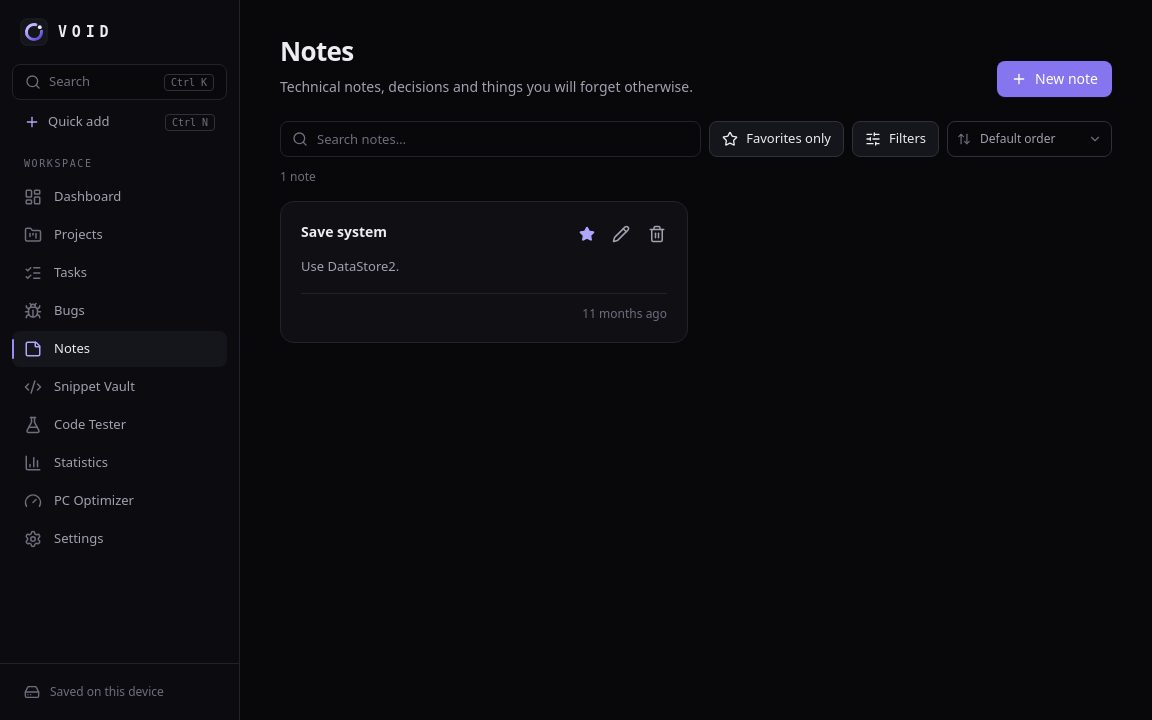
Scenario: favourites › keeps the favourite when the item is edited
The image size is (1152, 720).
Click the button named "Edit Save system" at (621, 234), box [603,216,639,252]
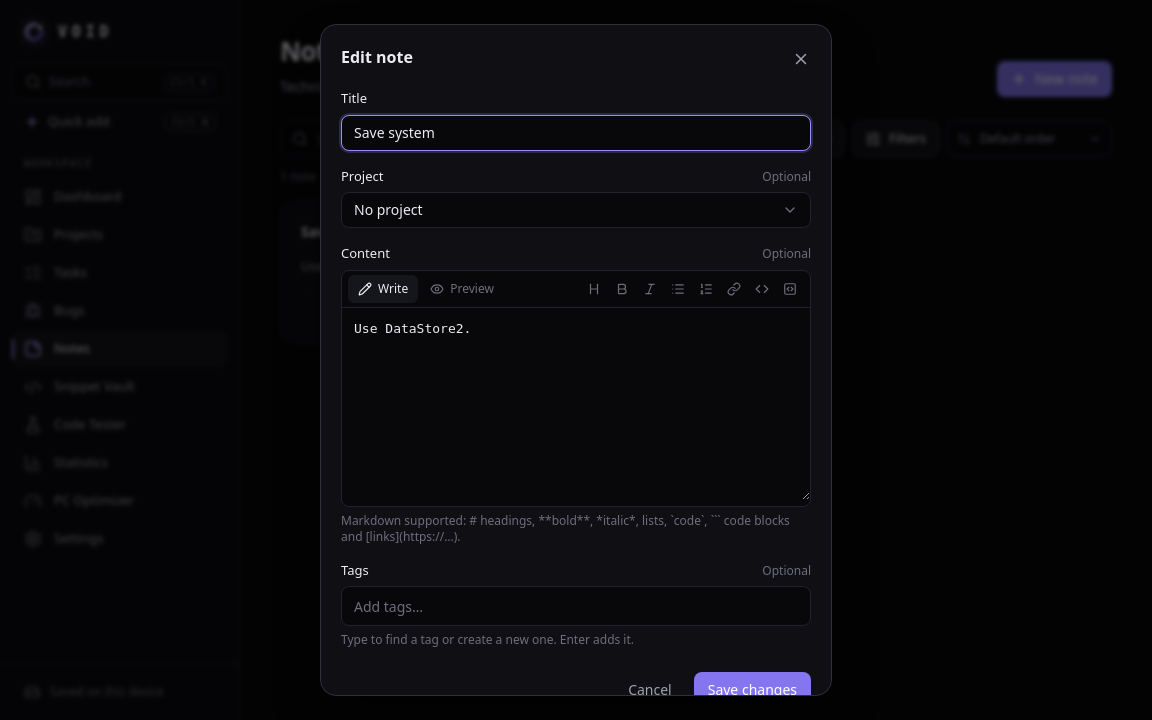
Replace the text in the field labelled "Title" with "Save system v2" at (576, 132), box [341,114,811,150]
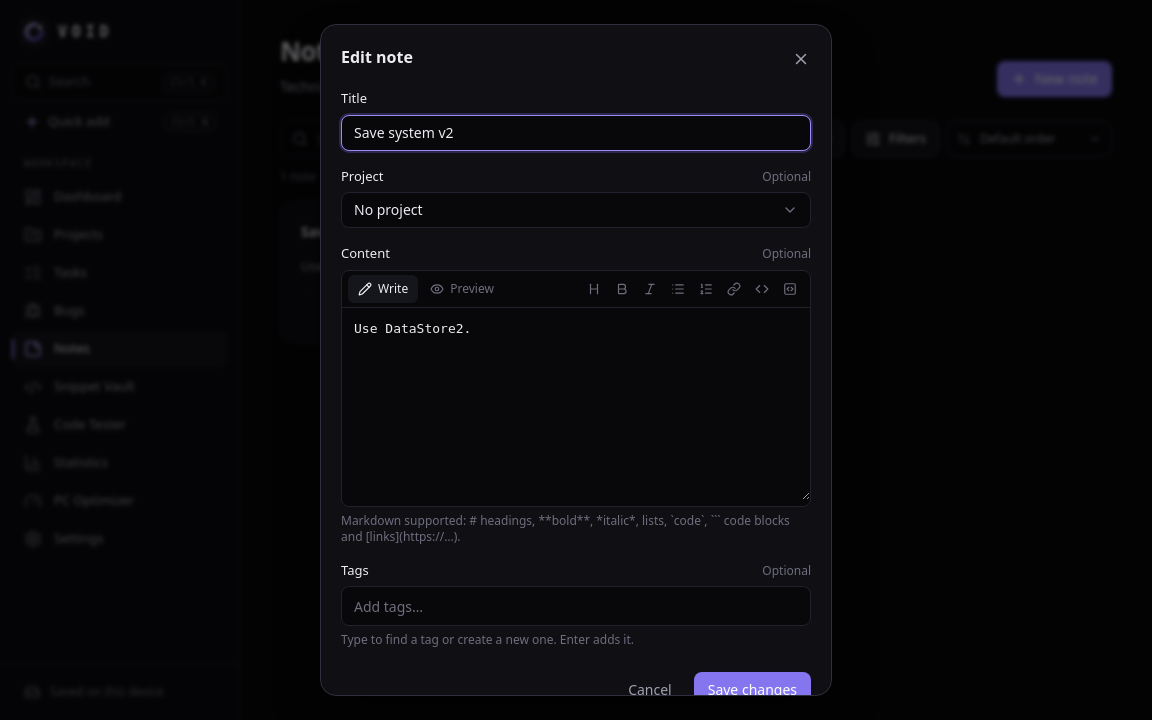
Click the button "Save changes" at (752, 690), box [694,672,811,708]
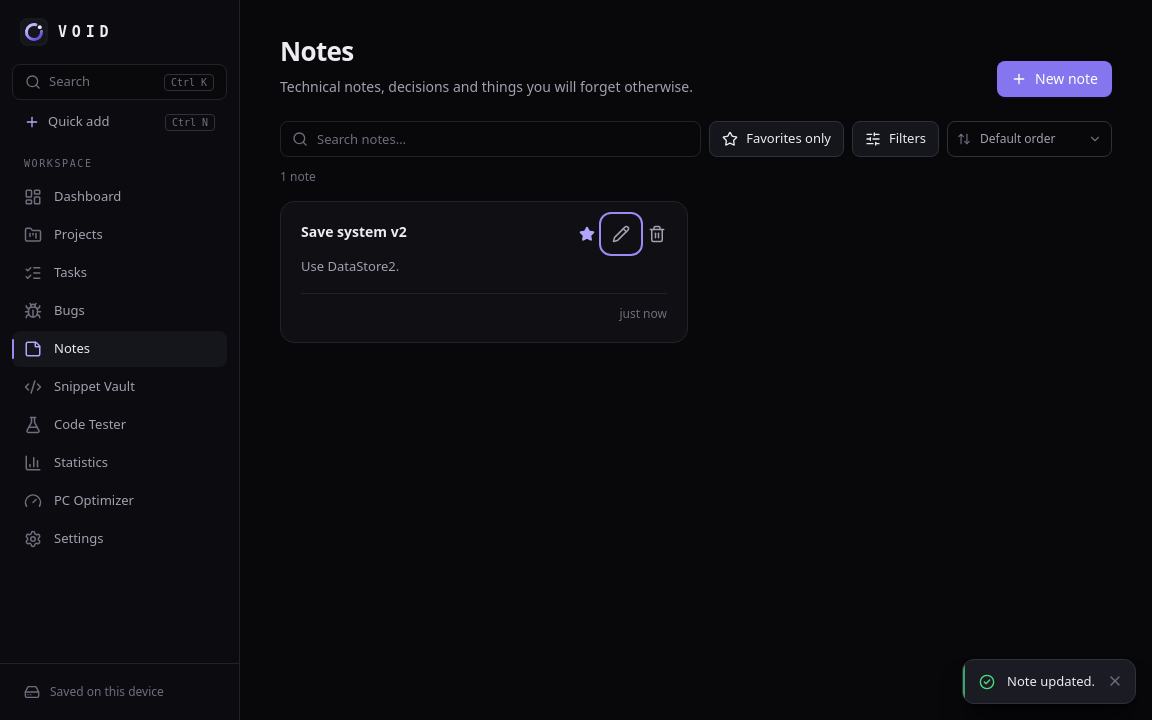
Check: the button named "Remove Save system v2 from favorites" is shown, box [571,218,603,250]
